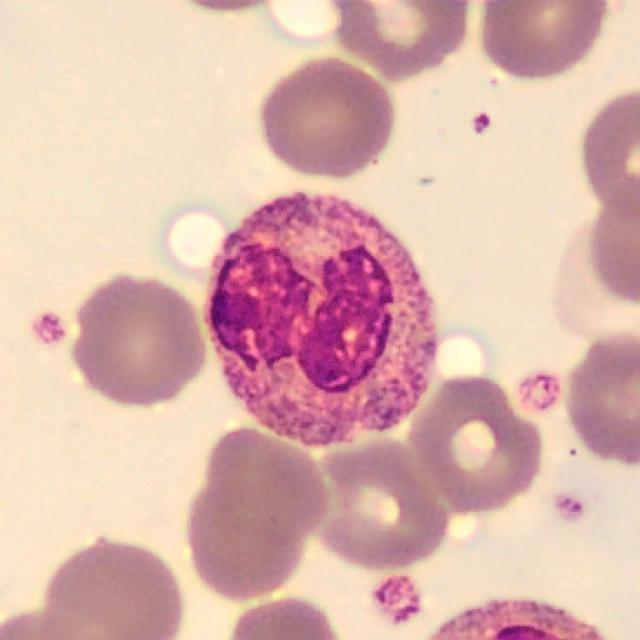Neutrofilo segmentado: (205, 194, 438, 448)
